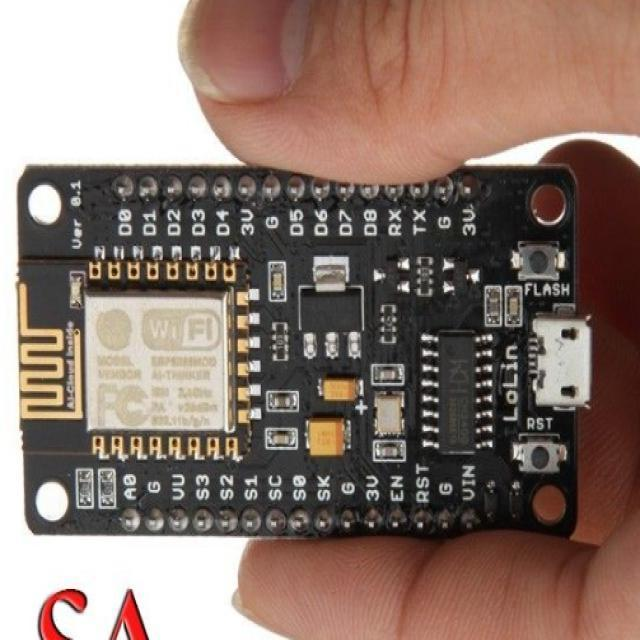Esp8266: (19, 168, 592, 537)
